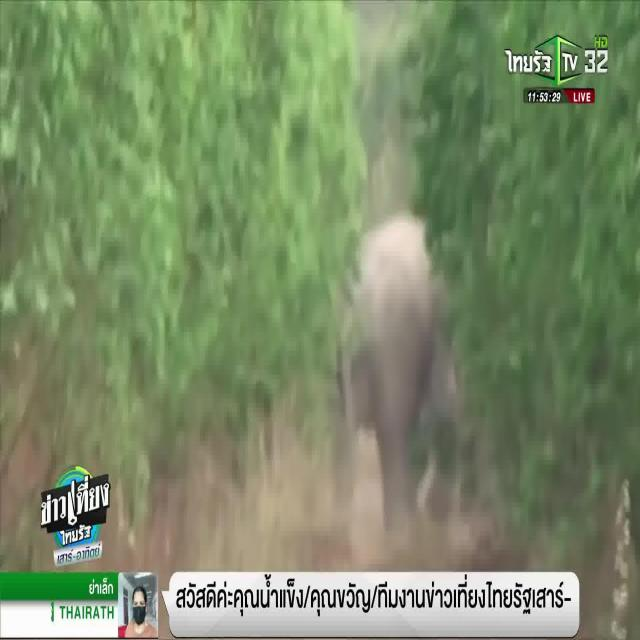Elephant: (338, 222, 434, 530)
